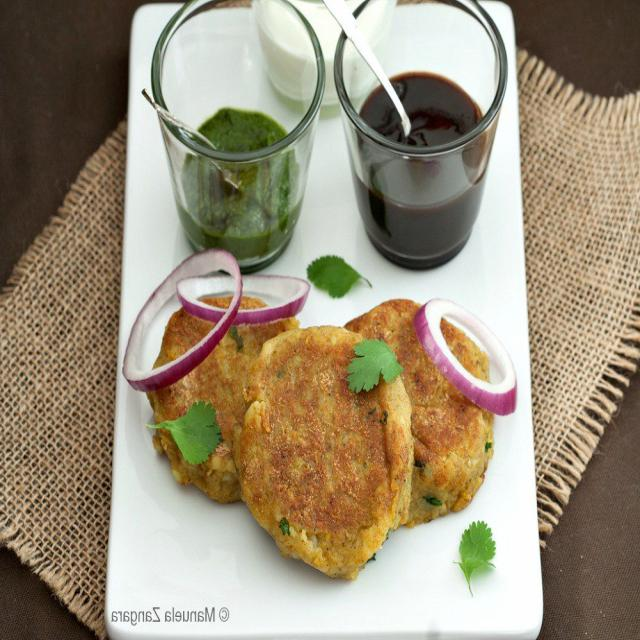Aloo Tikki: (240, 324, 412, 580), (340, 296, 489, 532), (150, 294, 297, 503)
